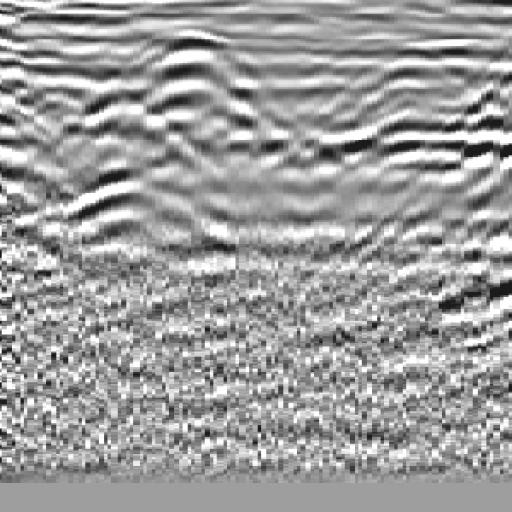metalic: (47, 42, 188, 287)
non-metallic: (92, 21, 291, 153)
nonmetalic: (357, 31, 512, 284)
